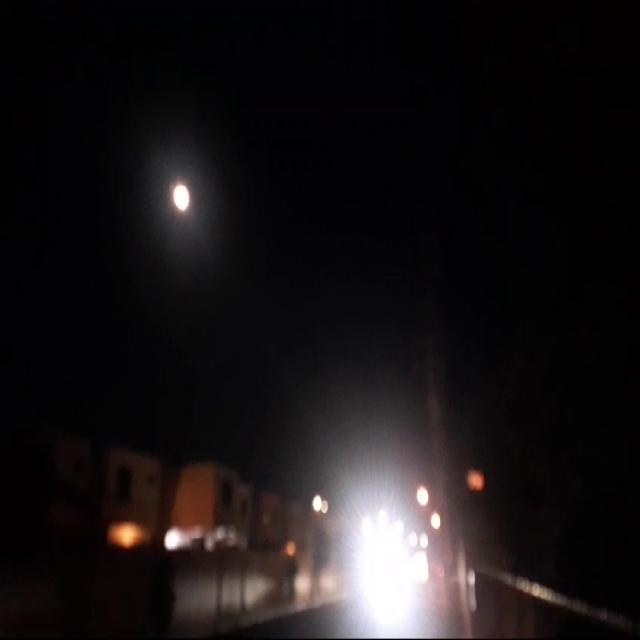moon: (176, 184, 195, 218)
